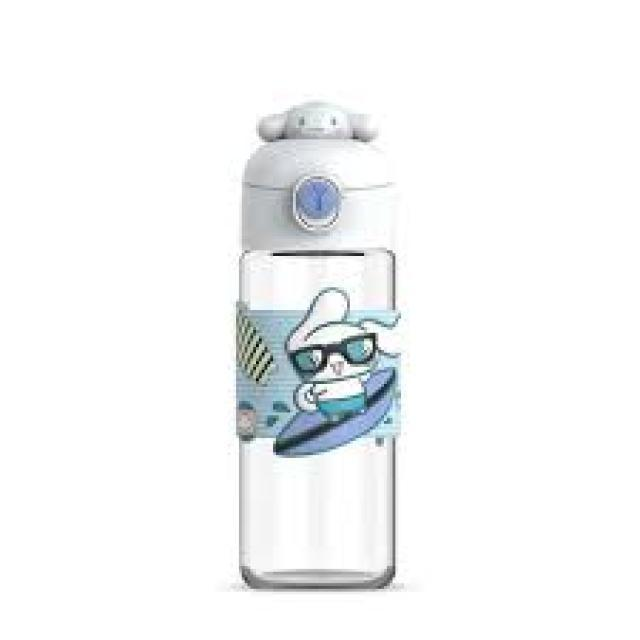good: (234, 90, 398, 589)
